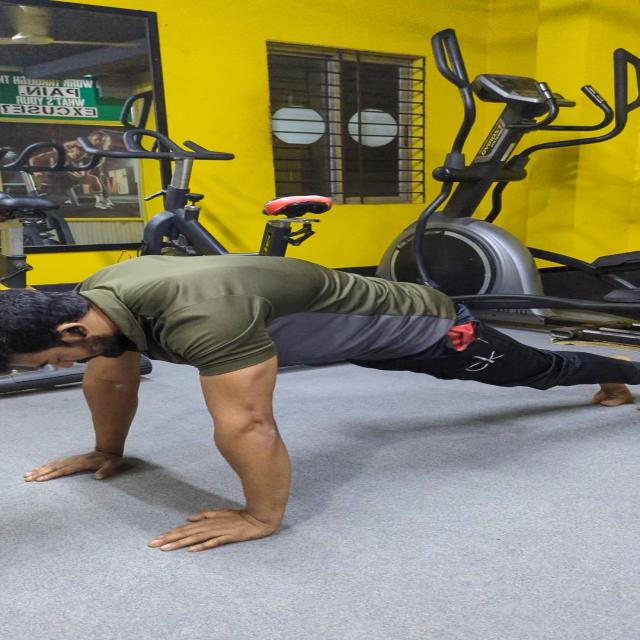Normal_MountainClimbers: (0, 223, 640, 567)
